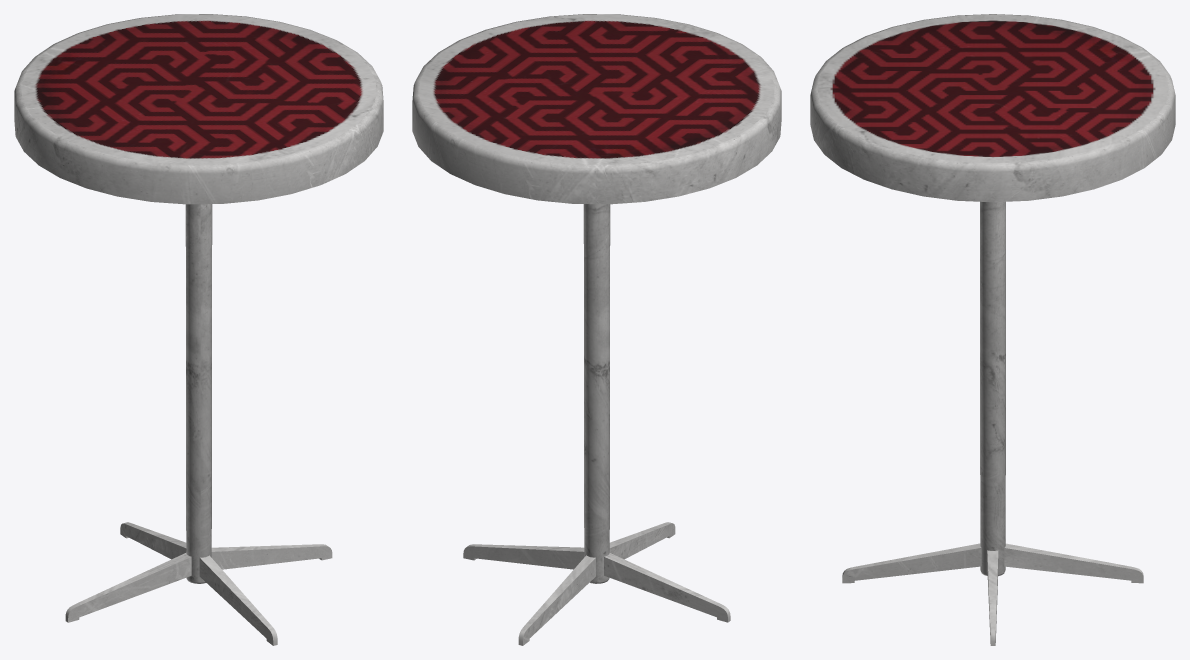
The model's file is Prop_HighTableStool_Table.fbx.
3 views of the same model, side by side, from view 1: azimuth 30°, elevation 25°; view 2: azimuth 150°, elevation 25°; view 3: azimuth 270°, elevation 25° (orthographic).
Parts seen in each view (by area): view 1: Prop_HighTableStool_Table; view 2: Prop_HighTableStool_Table; view 3: Prop_HighTableStool_Table.
Boxes of the visible parts, bbox=[...] form: Prop_HighTableStool_Table: bbox=[14, 14, 383, 645]; Prop_HighTableStool_Table: bbox=[412, 14, 781, 645]; Prop_HighTableStool_Table: bbox=[810, 14, 1175, 645].
Size of the model in its own units: 33.29 by 49.64 by 33.29.
